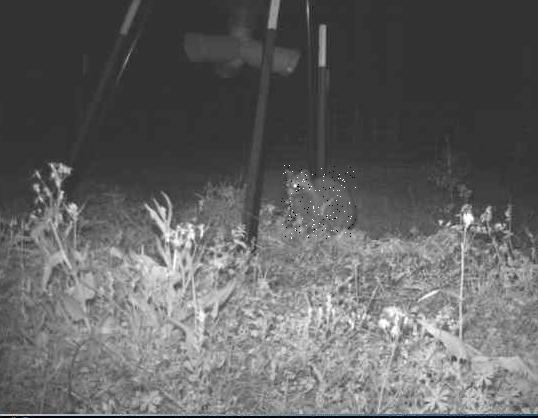Raccoon: (281, 166, 356, 240)
